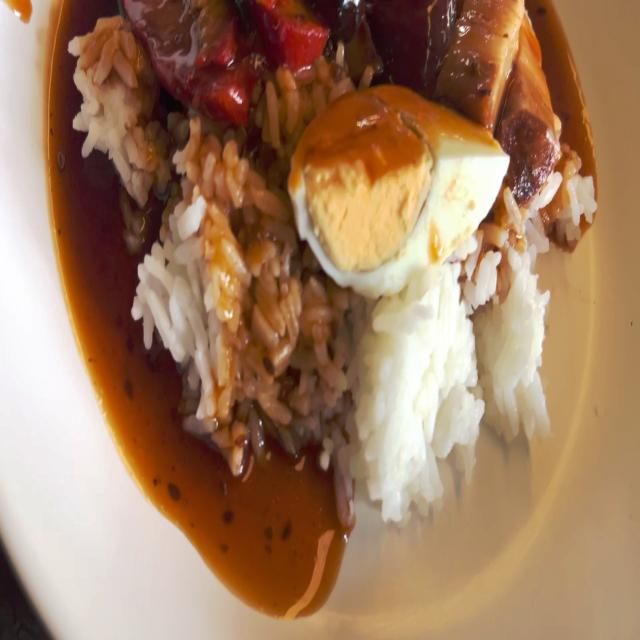boiled_egg: (295, 88, 509, 282)
chainese_sausage: (329, 0, 452, 80)
crispy_pork: (445, 0, 553, 186), (507, 0, 561, 184), (448, 0, 507, 134)
red_pork: (121, 0, 317, 112), (123, 0, 259, 131), (260, 0, 326, 68)
red_pork_and_crispy_pork: (68, 0, 587, 524)
rice: (304, 280, 559, 508), (135, 129, 294, 441), (83, 3, 145, 187)
